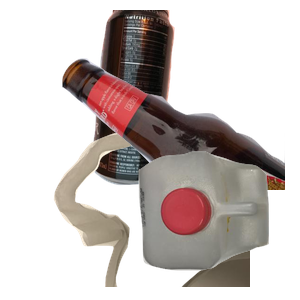glass: (60, 56, 300, 236)
metal: (91, 10, 258, 188)
plastic: (136, 149, 300, 300)
trash: (51, 120, 291, 300)
